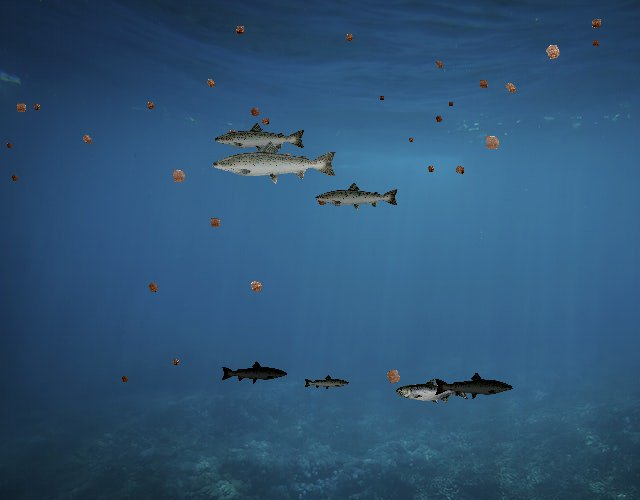Fish: (210, 139, 339, 185), (213, 121, 307, 155), (314, 181, 400, 212), (433, 372, 514, 401), (396, 378, 469, 405), (221, 360, 289, 385), (304, 374, 351, 391)
Pellet: (244, 274, 269, 299), (341, 30, 358, 47), (168, 355, 183, 370), (423, 162, 438, 176), (118, 372, 132, 386), (30, 100, 44, 114)
